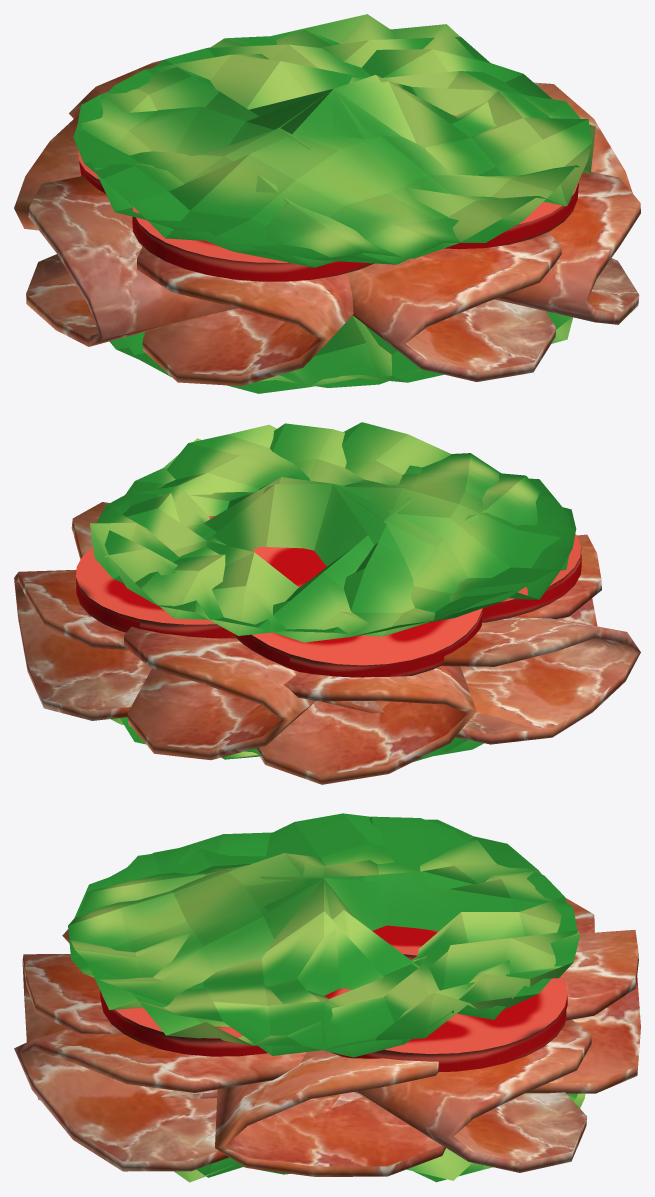
The model's file is ham.glb.
3 views of the same model, one above another, from view 1: azimuth 30°, elevation 25°; view 2: azimuth 150°, elevation 25°; view 3: azimuth 270°, elevation 25° (orthographic). The views are drawn at different scales.
Visible parts, largest first — view 1: ham; view 2: ham; view 3: ham.
Boxes of the visible parts, x1=… form: ham: x1=14, y1=14, x2=640, y2=393; ham: x1=14, y1=422, x2=640, y2=784; ham: x1=14, y1=813, x2=640, y2=1182.
Bounding box in the file's own units: 2.1 × 0.8917 × 2.05.
1 material, 1 textured.
